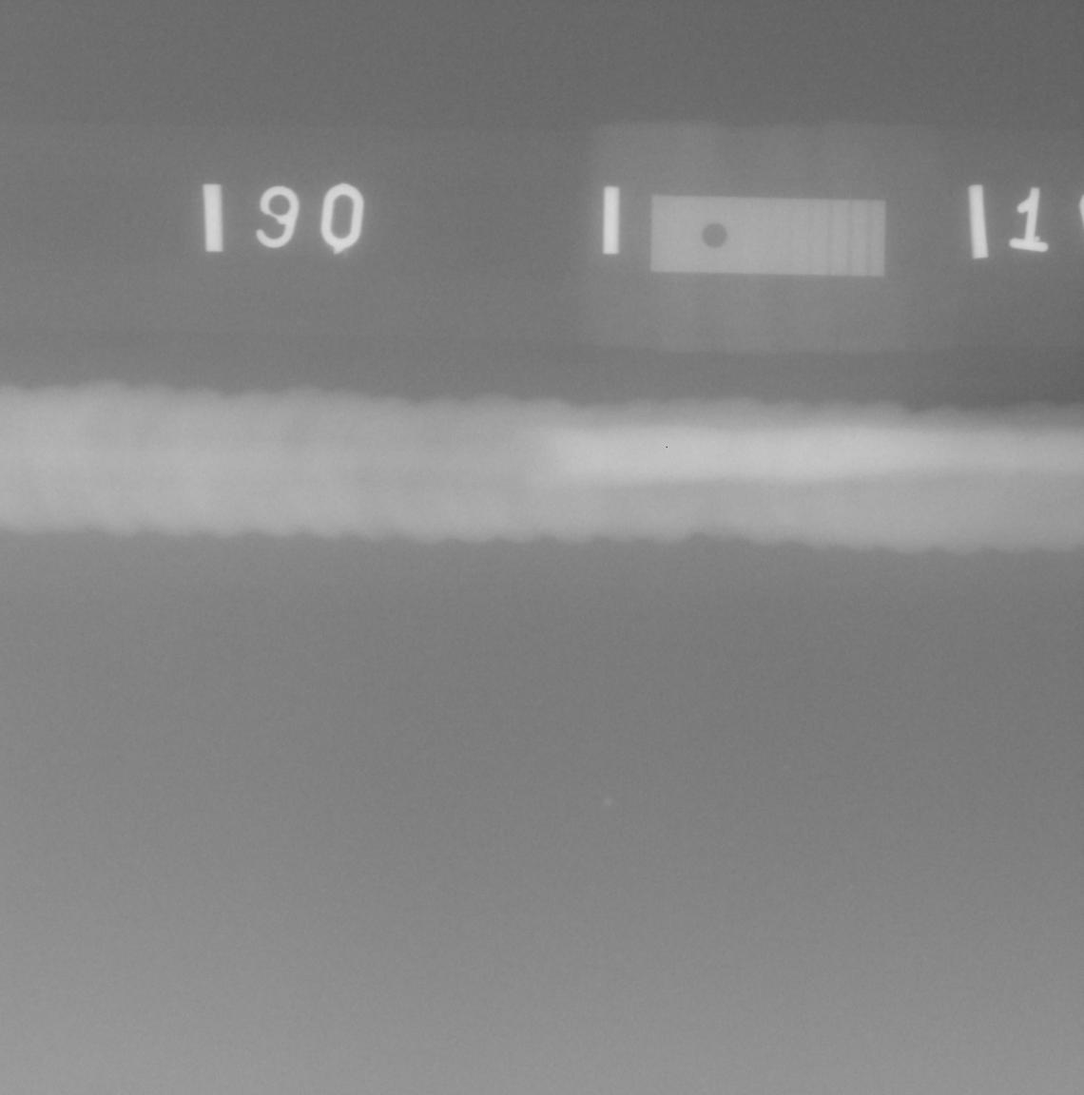Reference Standard 1: (651, 195, 886, 276)
